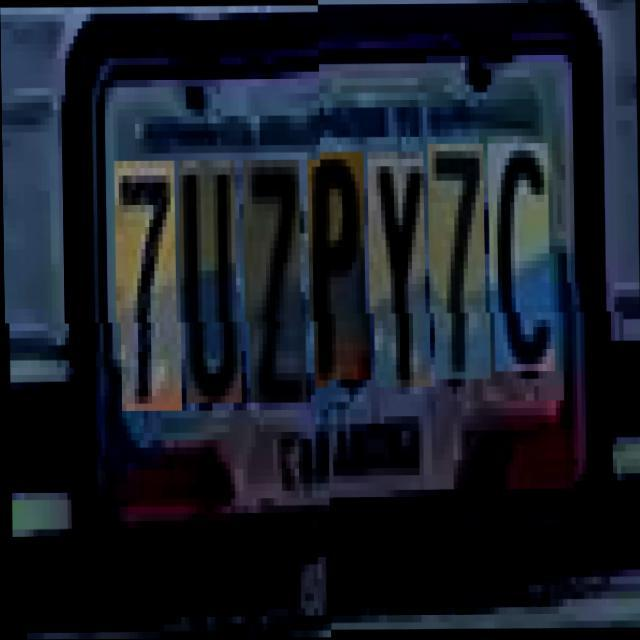7: (118, 161, 181, 411), (431, 152, 490, 388)
C: (491, 152, 554, 380)
P: (310, 160, 370, 388)
U: (182, 160, 242, 404)
Y: (372, 159, 431, 395)
Z: (247, 160, 306, 403)
